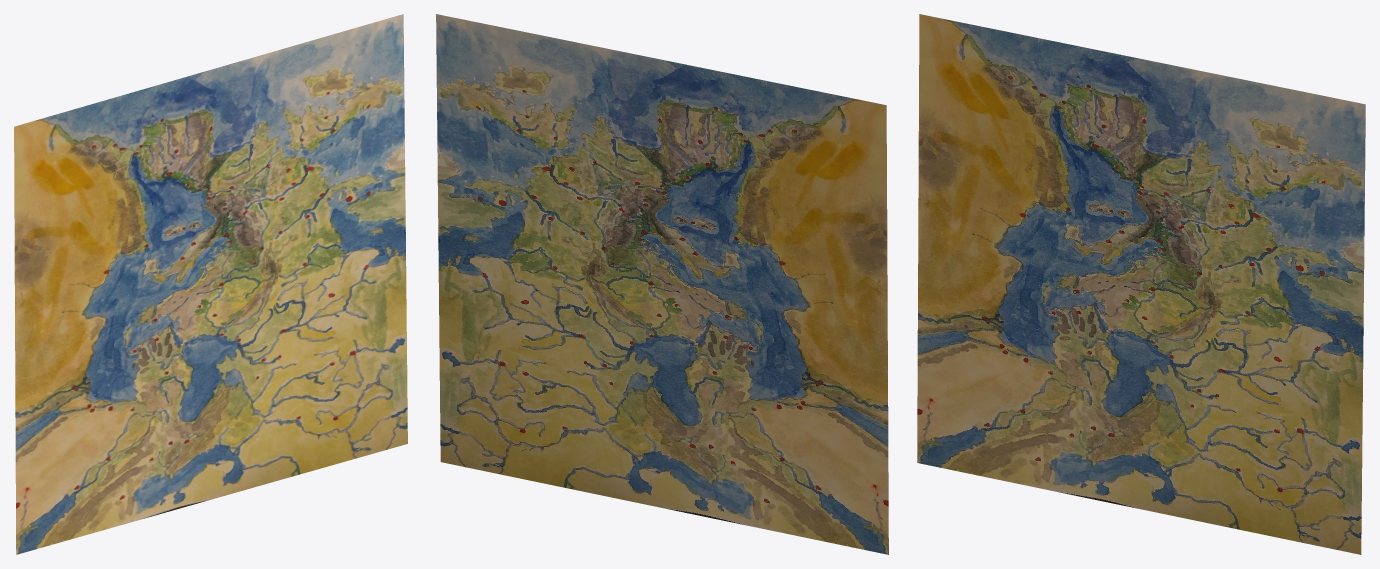
File: mitapfelbirnezwtschkeumdiewelt.gltf
The picture shows the model from 3 angles, left to right: view 1: azimuth 30°, elevation 25°; view 2: azimuth 150°, elevation 25°; view 3: azimuth 330°, elevation 25°; orthographic projection. The views are drawn at different scales.
Visible parts, largest first — view 1: Plane; view 2: Plane; view 3: Plane.
Boxes of the visible parts, bbox=[...] form: Plane: bbox=[14, 14, 407, 554]; Plane: bbox=[436, 14, 888, 554]; Plane: bbox=[917, 14, 1365, 554].
Bounding box in the file's own units: 2 × 2 × 0.1723.
Materials: 1 (1 with a texture image).
